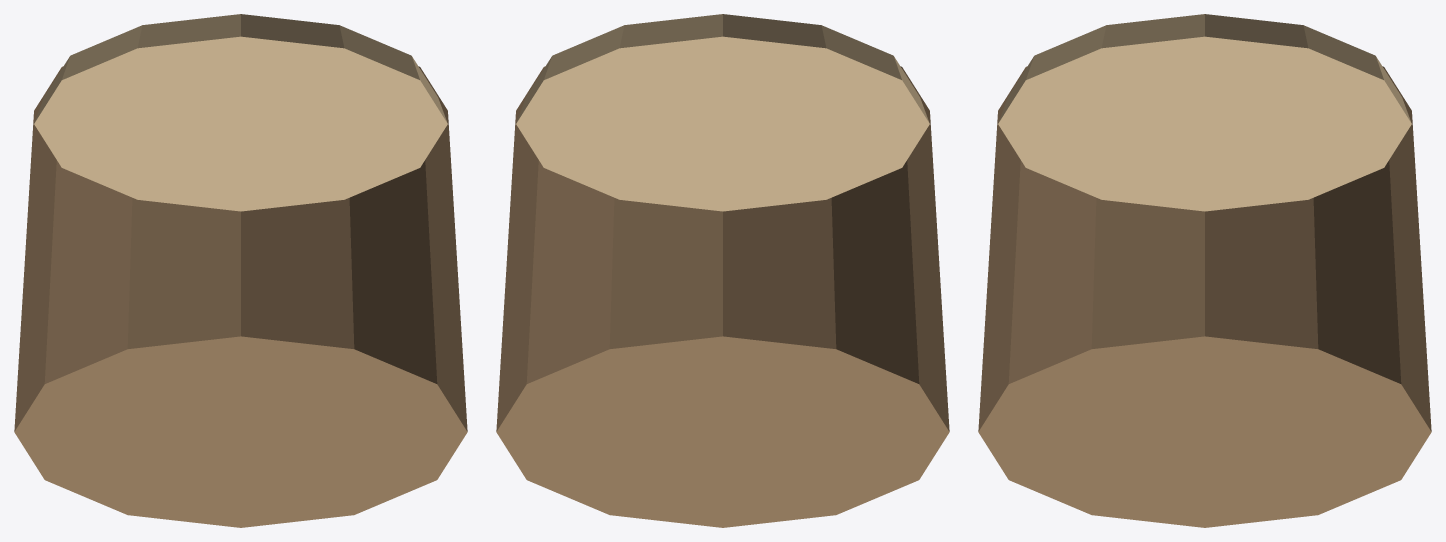
File: stump.glb
The picture shows the model from 3 angles, left to right: view 1: azimuth 30°, elevation 25°; view 2: azimuth 150°, elevation 25°; view 3: azimuth 270°, elevation 25°; orthographic projection.
Visible parts, largest first — view 1: stump-bark, stump-rings; view 2: stump-bark, stump-rings; view 3: stump-bark, stump-rings.
Boxes of the visible parts, left/top/right/bottom form: stump-bark: left=14, top=66, right=467, bottom=527; stump-rings: left=34, top=14, right=447, bottom=211; stump-bark: left=496, top=66, right=949, bottom=527; stump-rings: left=516, top=14, right=929, bottom=211; stump-bark: left=978, top=66, right=1431, bottom=527; stump-rings: left=998, top=14, right=1411, bottom=211.
Bounding box in the file's own units: 0.92 × 0.75 × 0.92.
